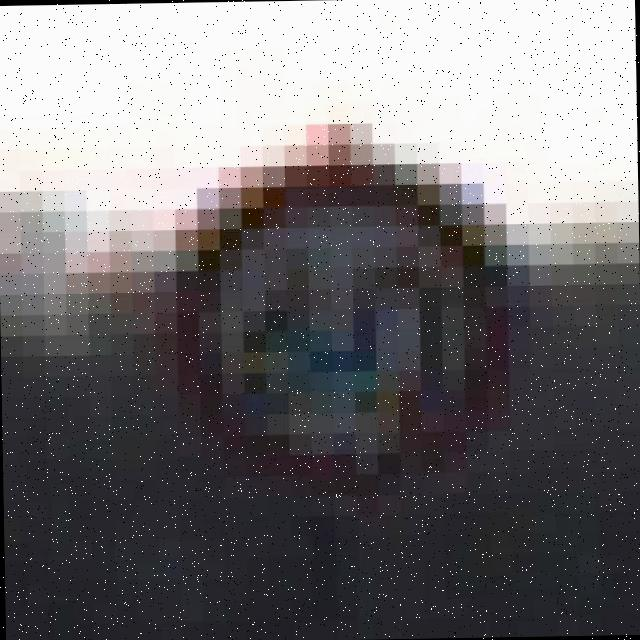Ograniczenie predkosci do 60: (65, 88, 602, 572)
